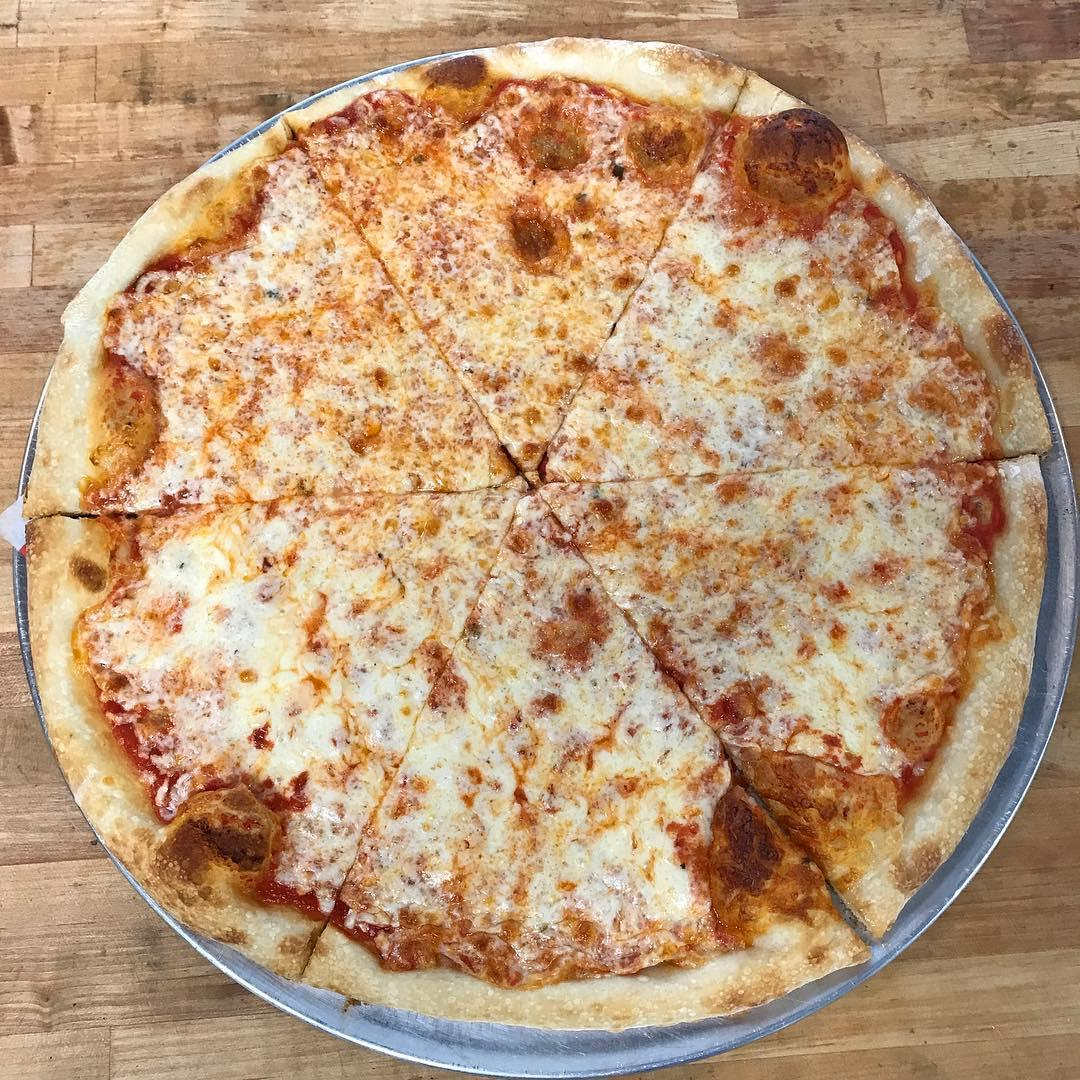Pizza: (18, 35, 1055, 1037)
